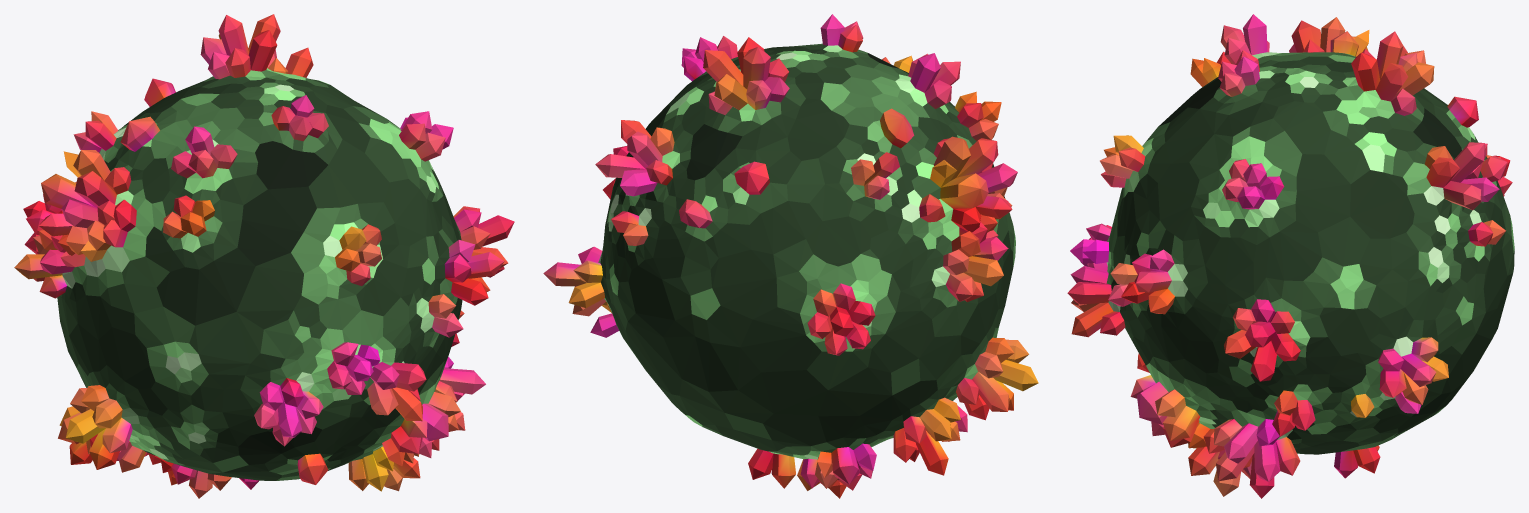
The model's file is CrystalPlanet.fbx.
3 views of the same model, side by side, from view 1: azimuth 30°, elevation 25°; view 2: azimuth 150°, elevation 25°; view 3: azimuth 270°, elevation 25° (orthographic). The views are drawn at different scales.
Parts seen in each view (by area): view 1: file6; view 2: file6; view 3: file6.
Boxes of the visible parts, x1,y1,x2,y2 form: file6: (14, 14, 514, 498); file6: (543, 14, 1038, 498); file6: (1067, 14, 1514, 498).
Size of the model in its own units: 2.51 by 2.46 by 2.22.
